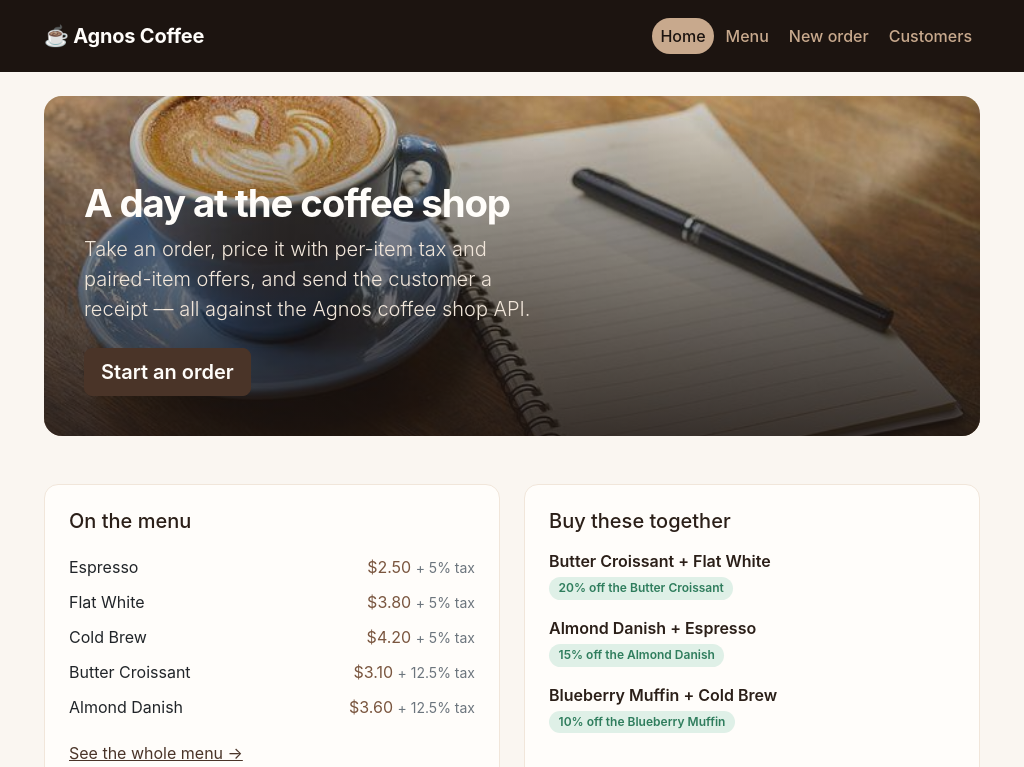
Test: <App /> › fetches the menu once for the whole session, not once per screen
Check: the heading "A day at the coffee shop" is shown, box [84,180,548,226]
Click the link "Menu".
click(747, 36)  # box [726,26,769,46]
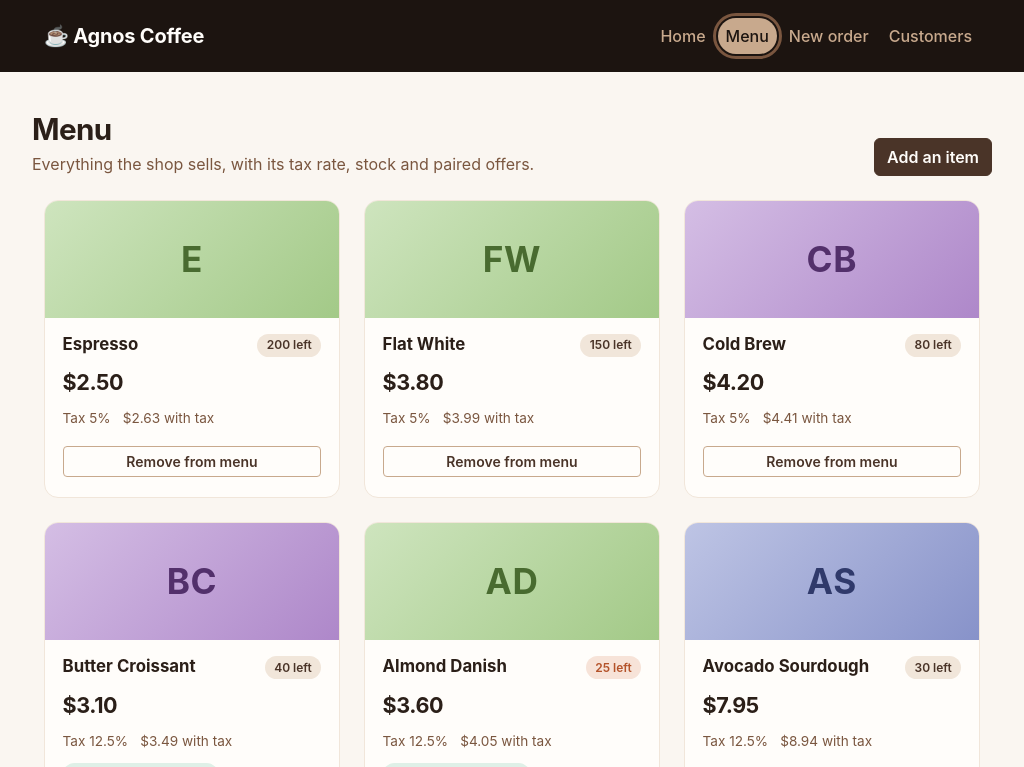
Check: the heading "Flat White" is shown, box [383,334,465,354]
Click the link "New order".
click(829, 36)  # box [789,26,869,46]
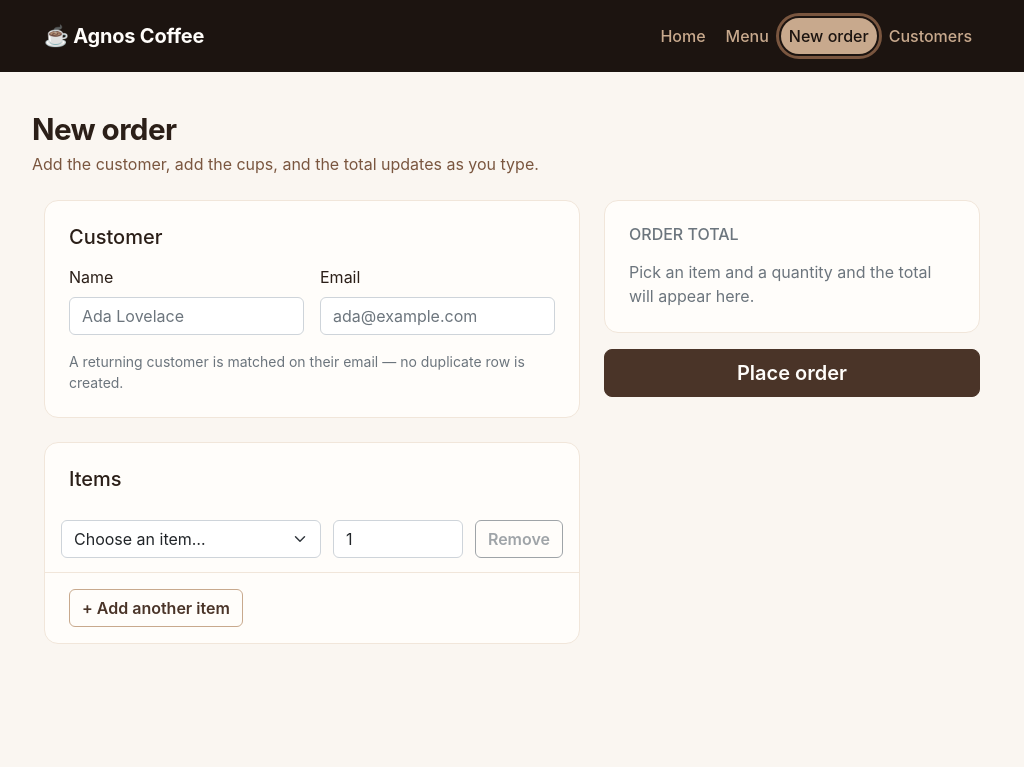
Check: the field labelled "Name" is shown, box [69,296,304,334]
